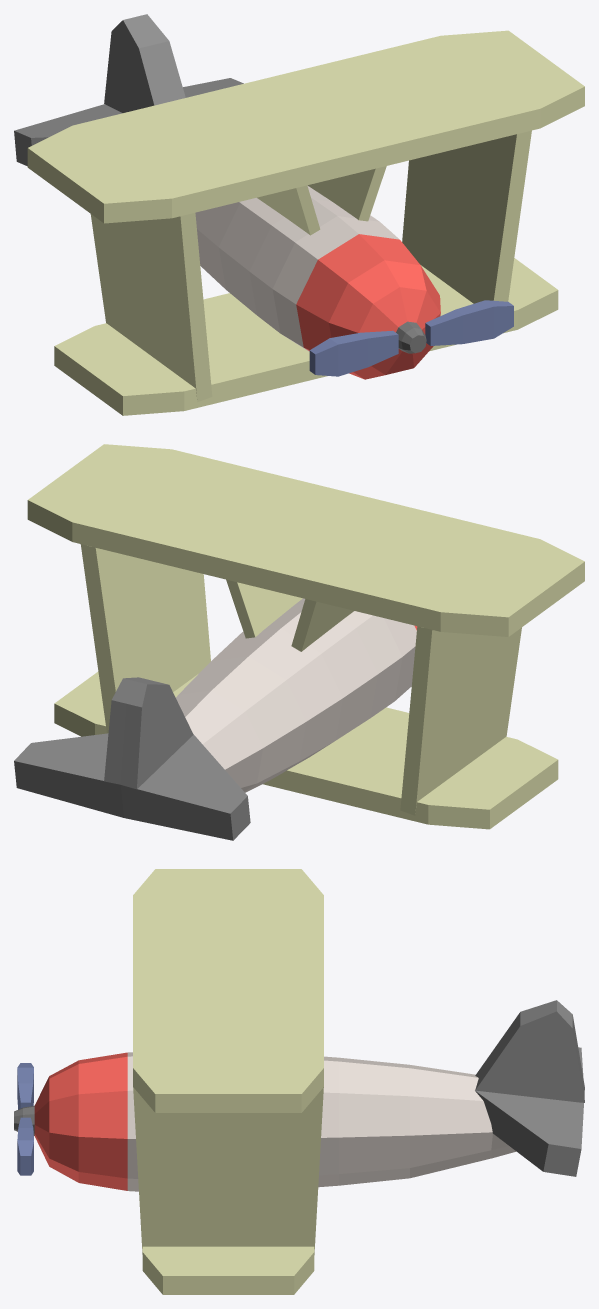
File: char_1.fbx
The picture shows the model from 3 angles, top to bottom: view 1: azimuth 30°, elevation 25°; view 2: azimuth 150°, elevation 25°; view 3: azimuth 270°, elevation 25°; orthographic projection. The views are drawn at different scales.
Visible parts, largest first — view 1: char_1; view 2: char_1; view 3: char_1.
Boxes of the visible parts, <box> form: char_1: <box>14,14,584,415</box>; char_1: <box>14,444,584,840</box>; char_1: <box>14,869,584,1294</box>.
Bounding box in the file's own units: 182 × 79.76 × 195.
